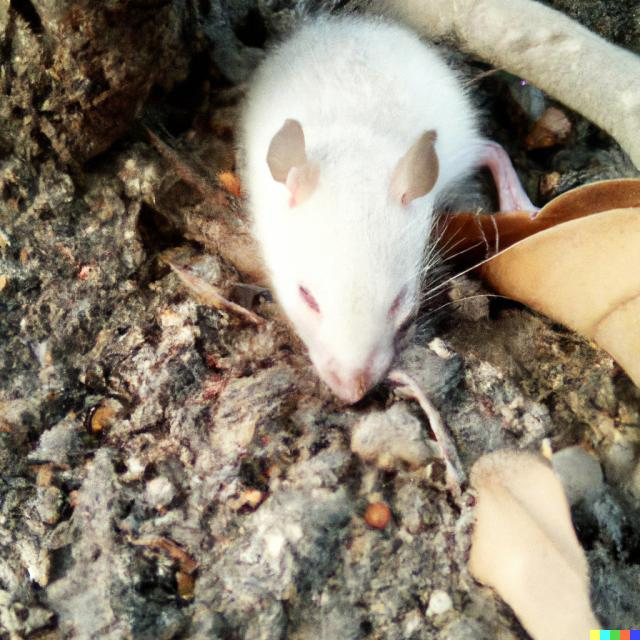rodents: (224, 9, 491, 410)
